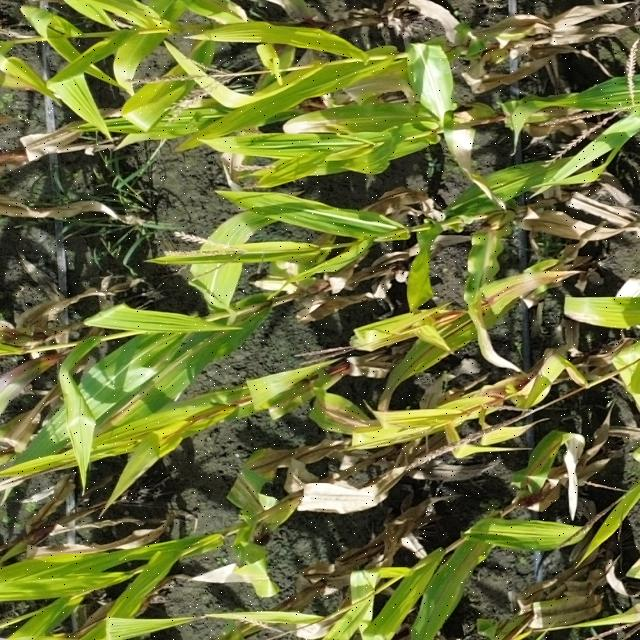northern-leaf-blight: (474, 276, 566, 308), (104, 390, 148, 433), (312, 398, 369, 431), (525, 444, 564, 487), (235, 476, 267, 512)
